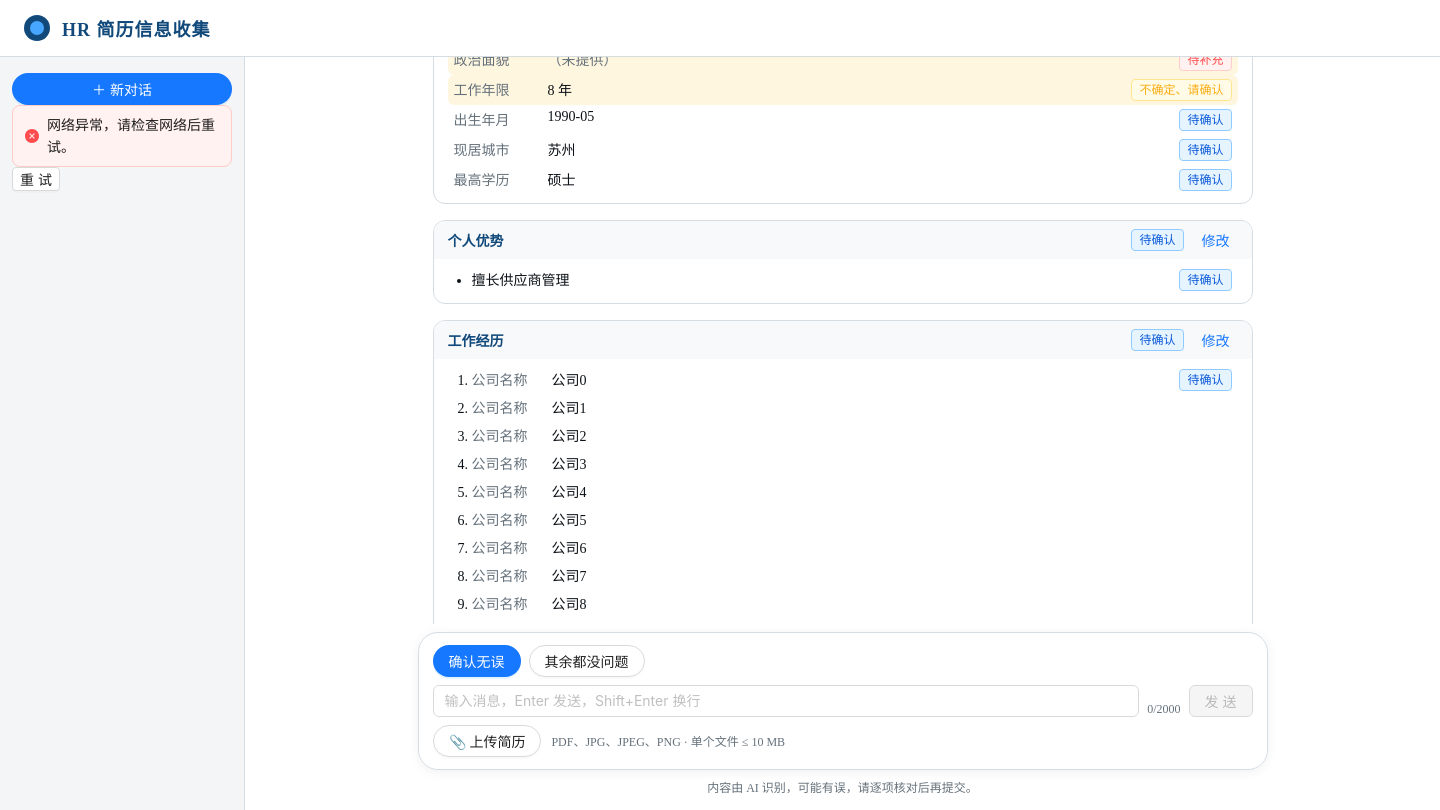
Test: experience lists (REQ-FE-03.3) › stops adding at 20 items
The image size is (1440, 810).
Earlier steps of the test are not shown.
(page scrolled)
What coordinates should you click on to do the following:
click the button "修改" in the row of "工作经历"
I would click on:
 (1216, 340)
Its box is x1=1194 y1=328 x2=1238 y2=352.
(page scrolled)
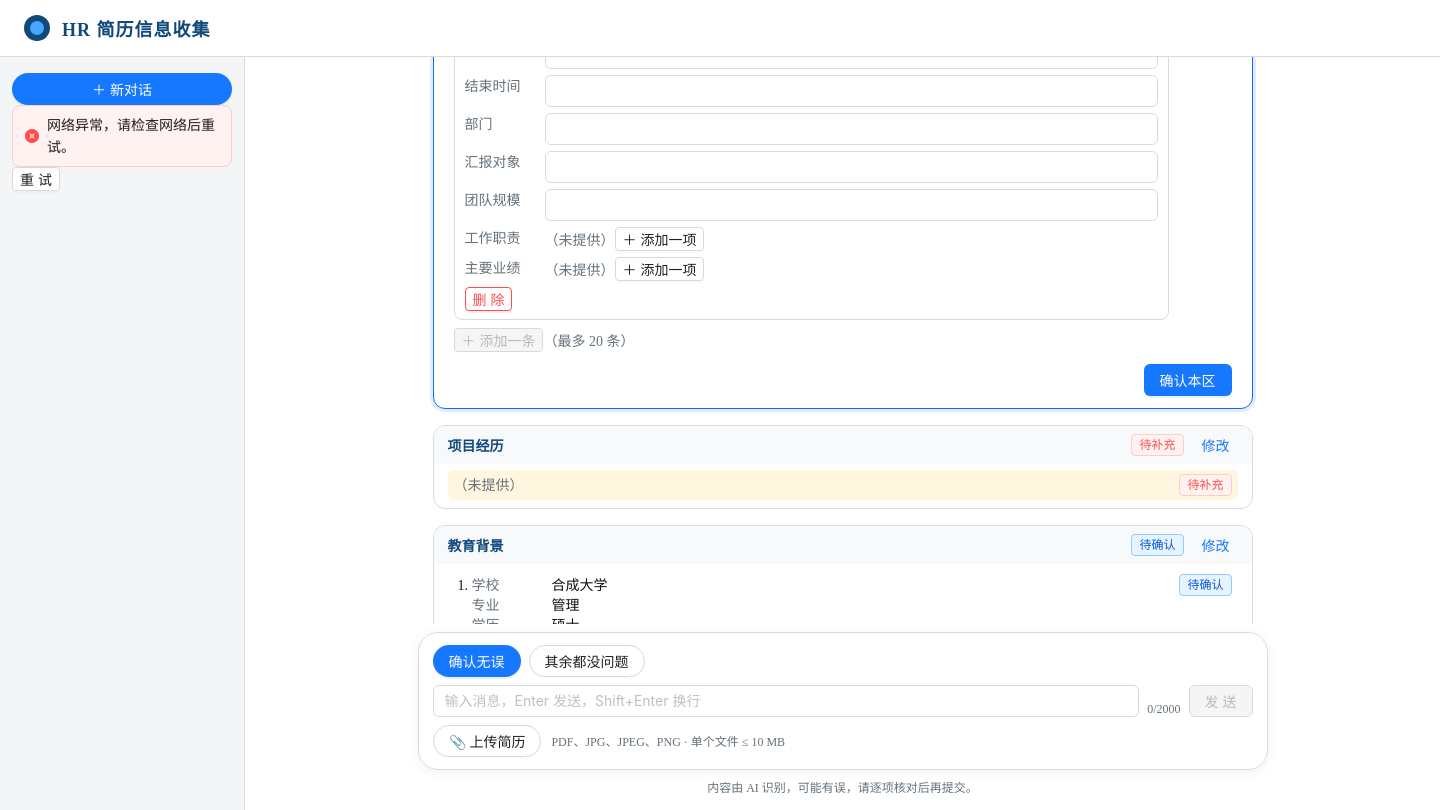
Now the button "＋ 添加一条" is disabled, box x1=454 y1=328 x2=543 y2=352
